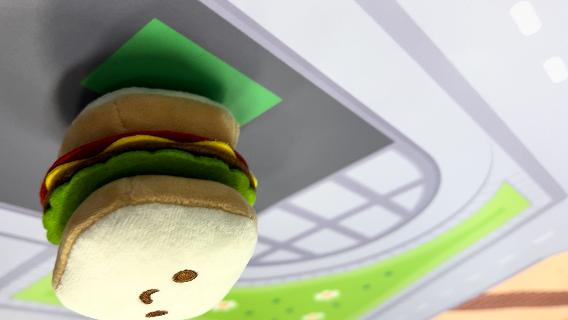sandwich: (37, 85, 262, 318)
